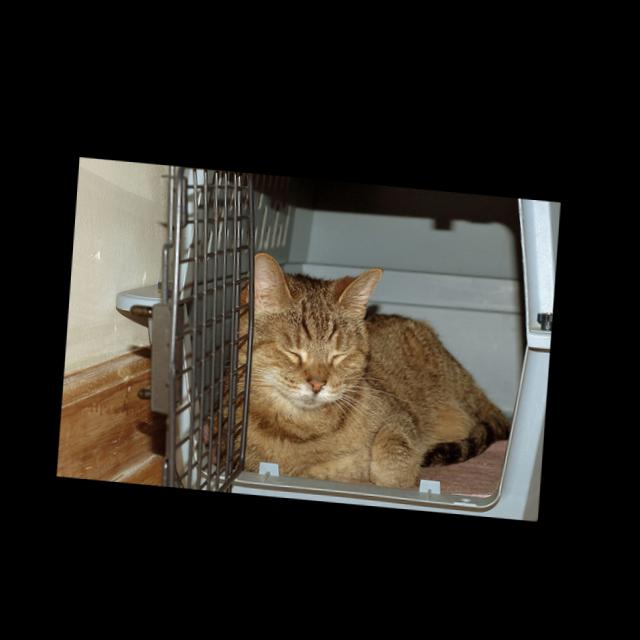animals: (241, 248, 383, 389)
